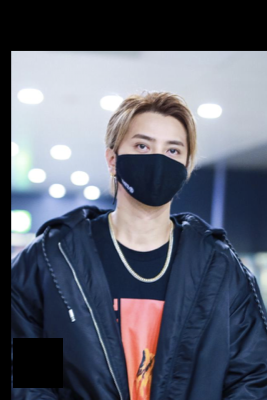with_mask: (115, 130, 187, 208)
